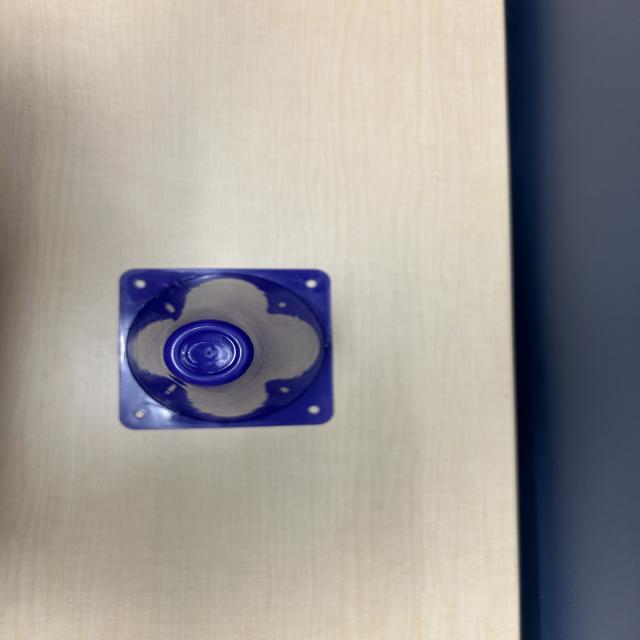purple cone: (109, 265, 352, 434)
